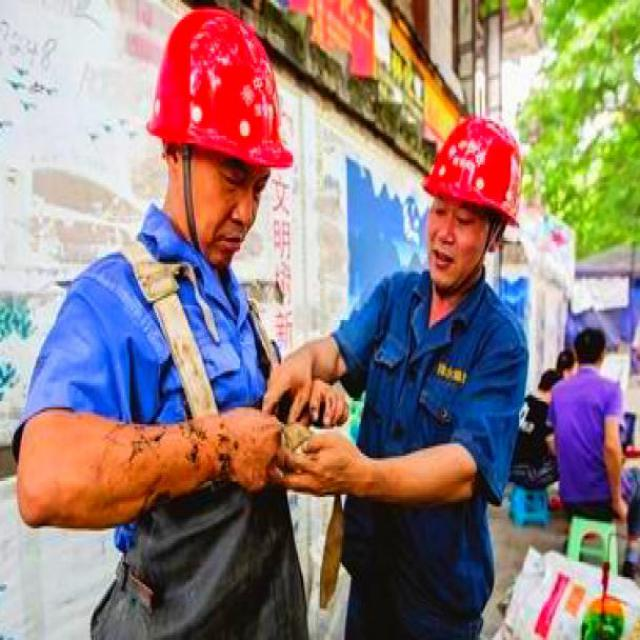helmet: (148, 0, 291, 253), (412, 82, 520, 286)
vest: (114, 230, 313, 637)
